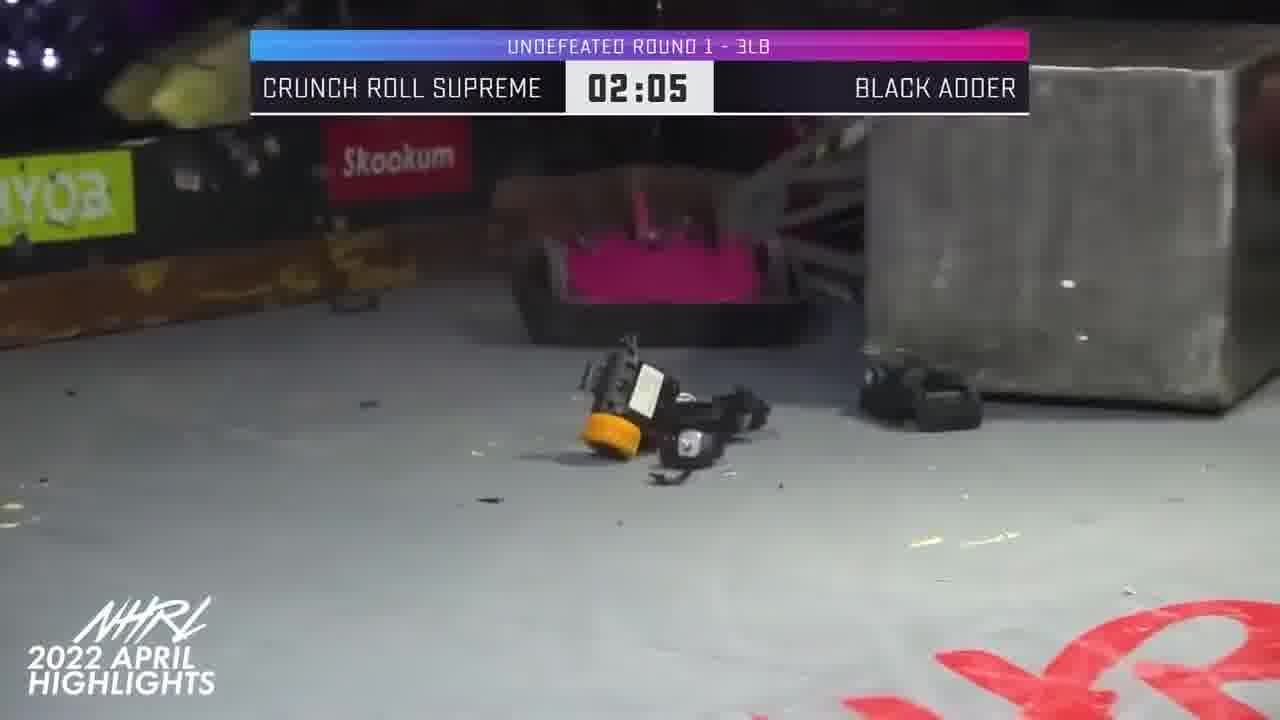combatbot: (511, 158, 813, 348)
debris: (573, 336, 774, 486)
housebot: (865, 11, 1280, 418)
